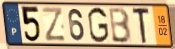5: (19, 5, 43, 44)
6: (67, 7, 86, 42)
B: (109, 7, 133, 45)
G: (86, 6, 110, 44)
T: (131, 6, 151, 45)
Z: (41, 6, 67, 43)
